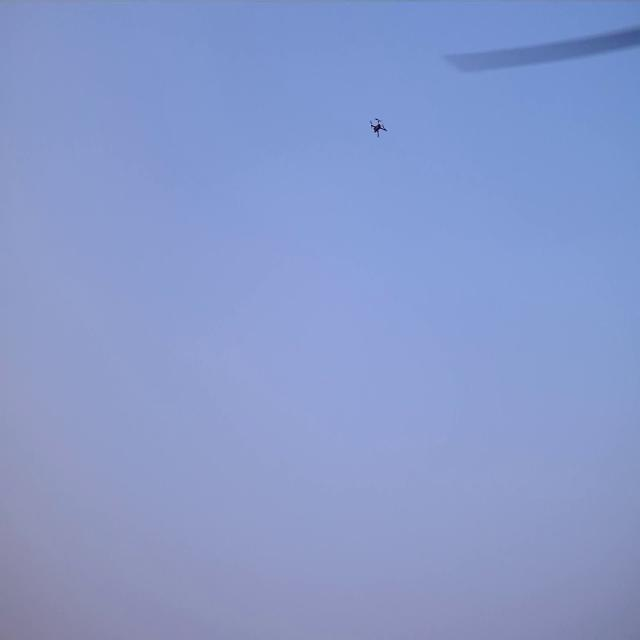UAV: (371, 118, 385, 136)
